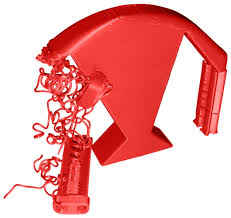fail: (1, 49, 95, 201)
